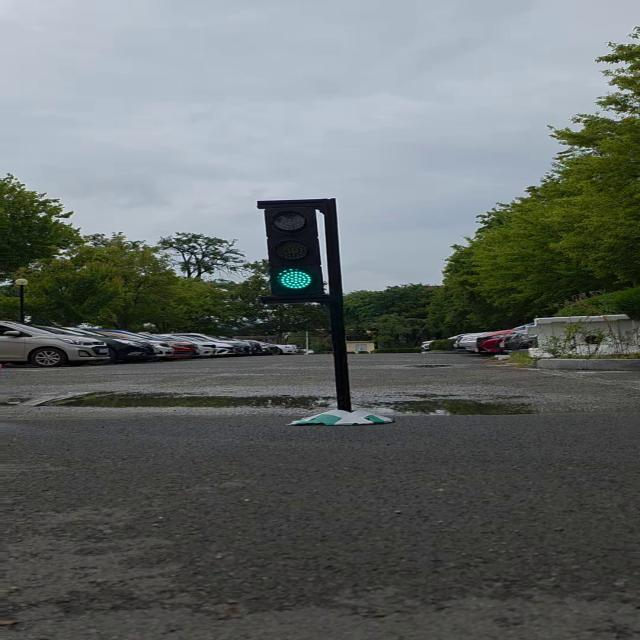green: (262, 202, 335, 298)
